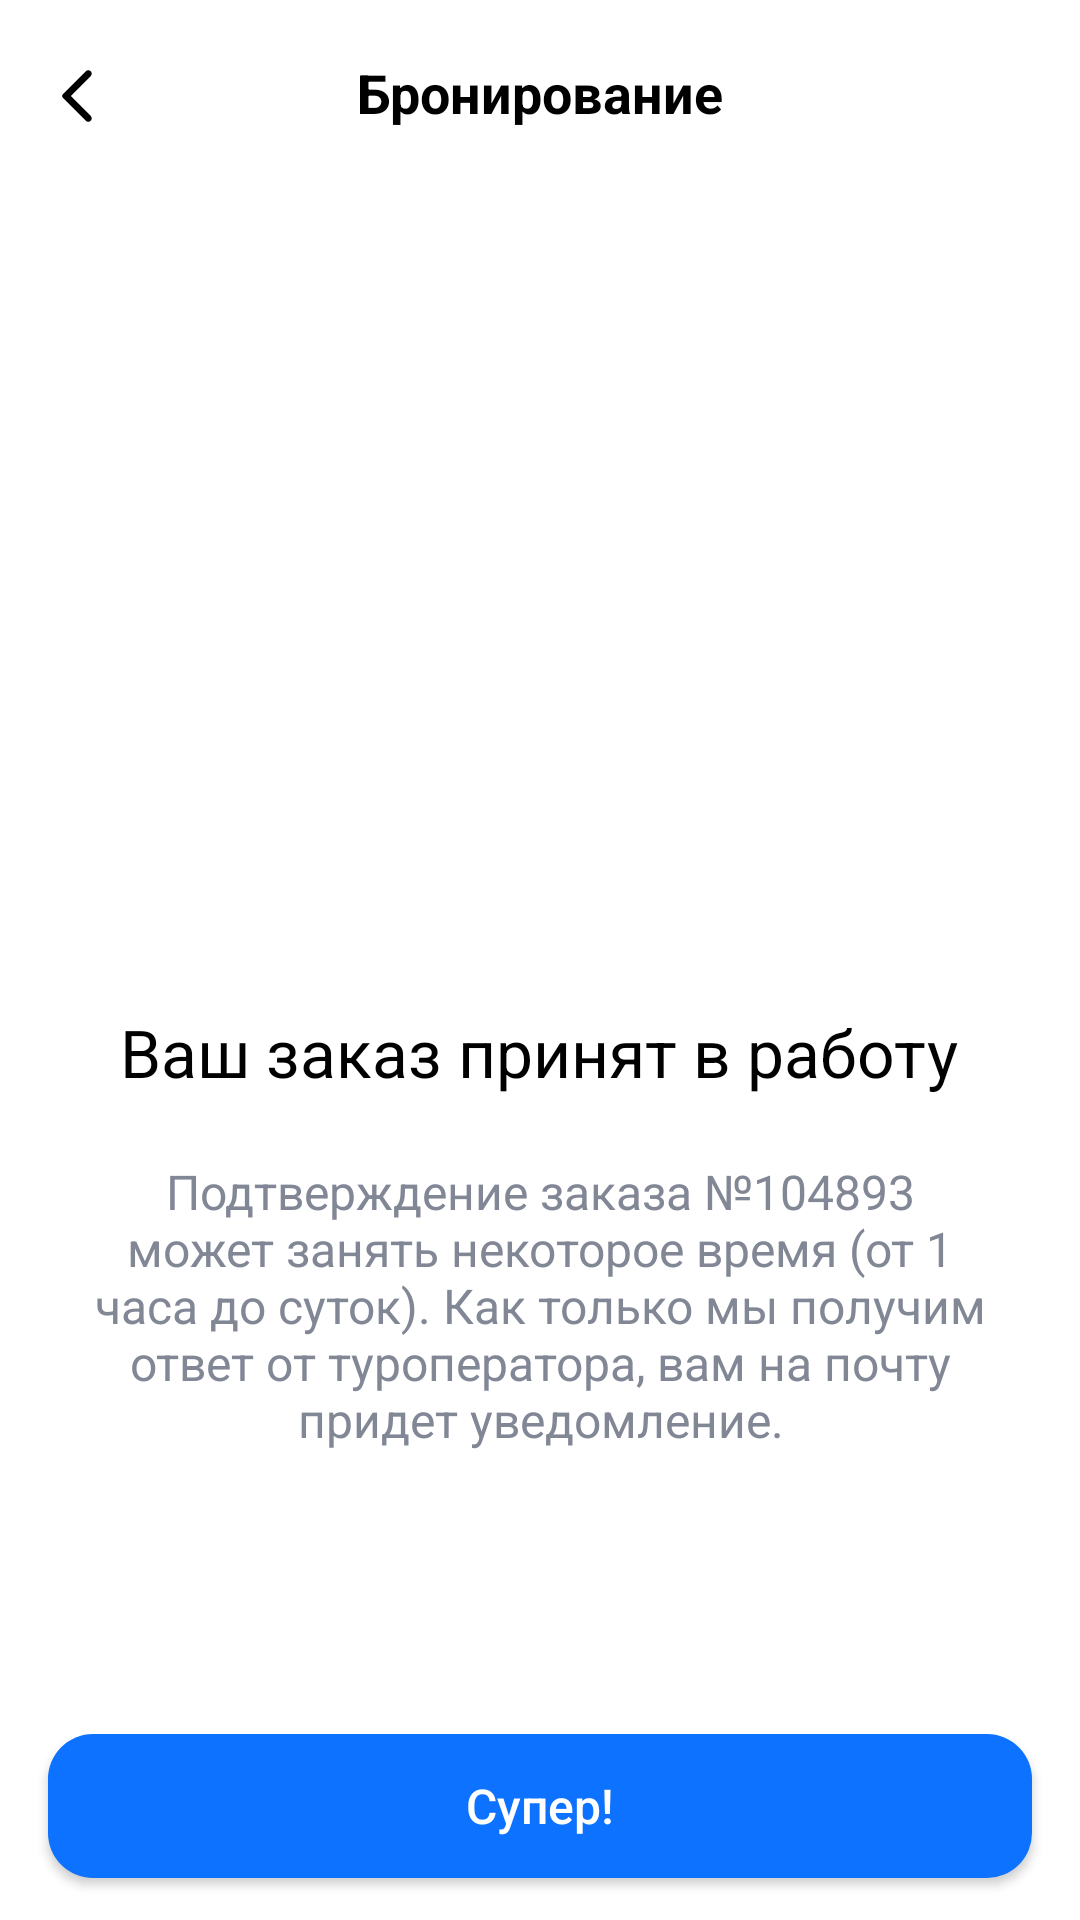

Icon bounding boxes for this 1080×1920 phone screenshot, format (x1, y1, x2, y2):
arrow back: (62, 70, 92, 122)
